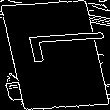L_E: (4, 37, 106, 73)
